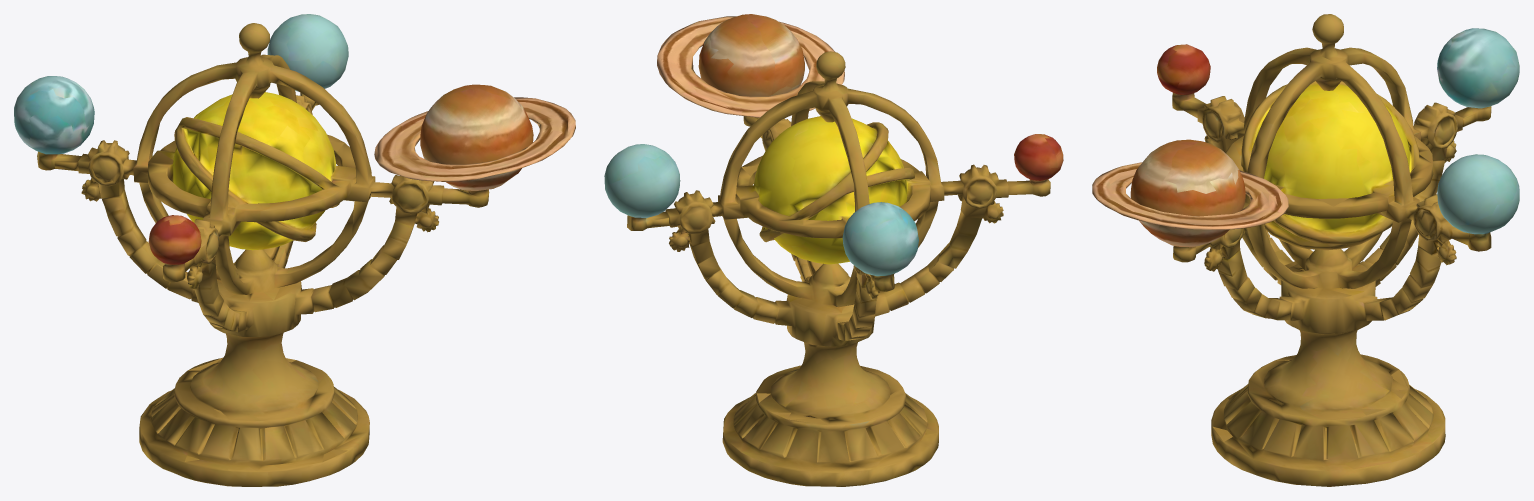
Rendered from prop_star_orrery.fbx.
3 views of the same model, side by side, from view 1: azimuth 30°, elevation 25°; view 2: azimuth 150°, elevation 25°; view 3: azimuth 270°, elevation 25° (orthographic). The views are drawn at different scales.
Visible parts, largest first — view 1: tripo_node_507cb93e-77f8-4e3f-8c65-f91249d39f40; view 2: tripo_node_507cb93e-77f8-4e3f-8c65-f91249d39f40; view 3: tripo_node_507cb93e-77f8-4e3f-8c65-f91249d39f40.
Part boxes in pixels (box(x1,y1,x2,y2)): tripo_node_507cb93e-77f8-4e3f-8c65-f91249d39f40: box(14, 14, 575, 486); tripo_node_507cb93e-77f8-4e3f-8c65-f91249d39f40: box(604, 14, 1063, 486); tripo_node_507cb93e-77f8-4e3f-8c65-f91249d39f40: box(1092, 14, 1519, 486).
Size of the model in its own units: 0.98 by 0.9392 by 0.8618.
